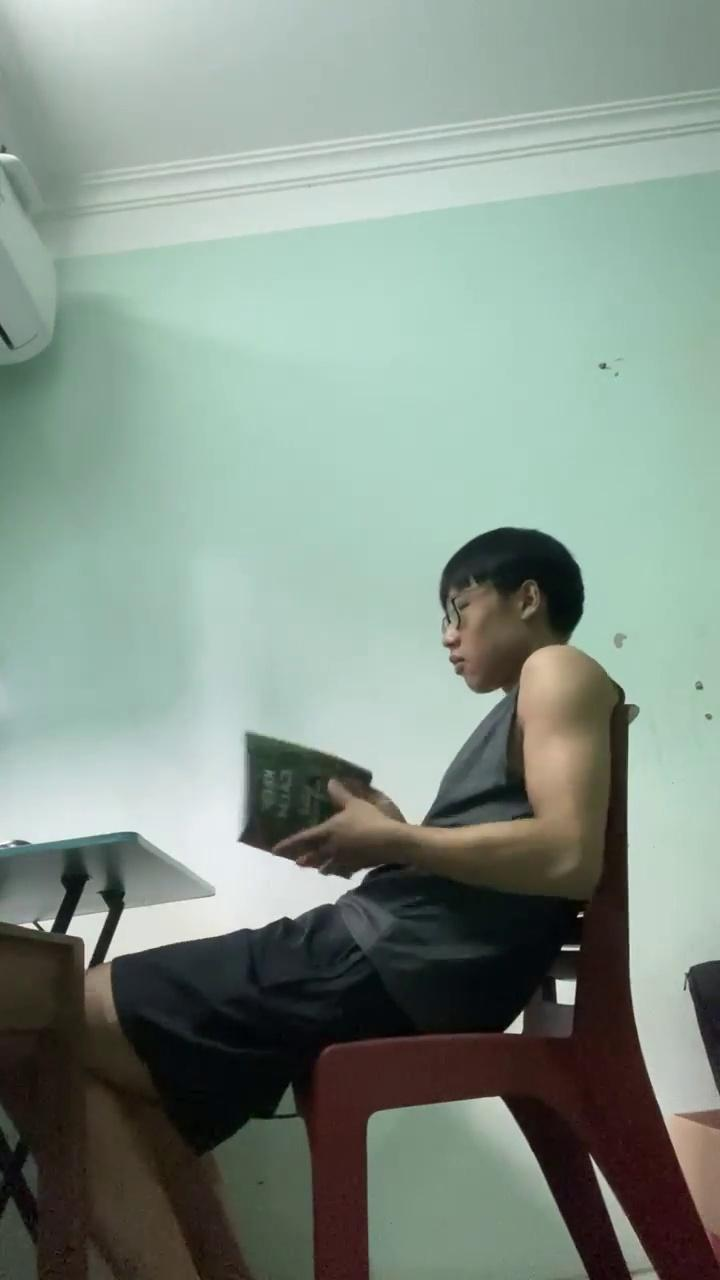BadPosture: (85, 528, 622, 1279)
